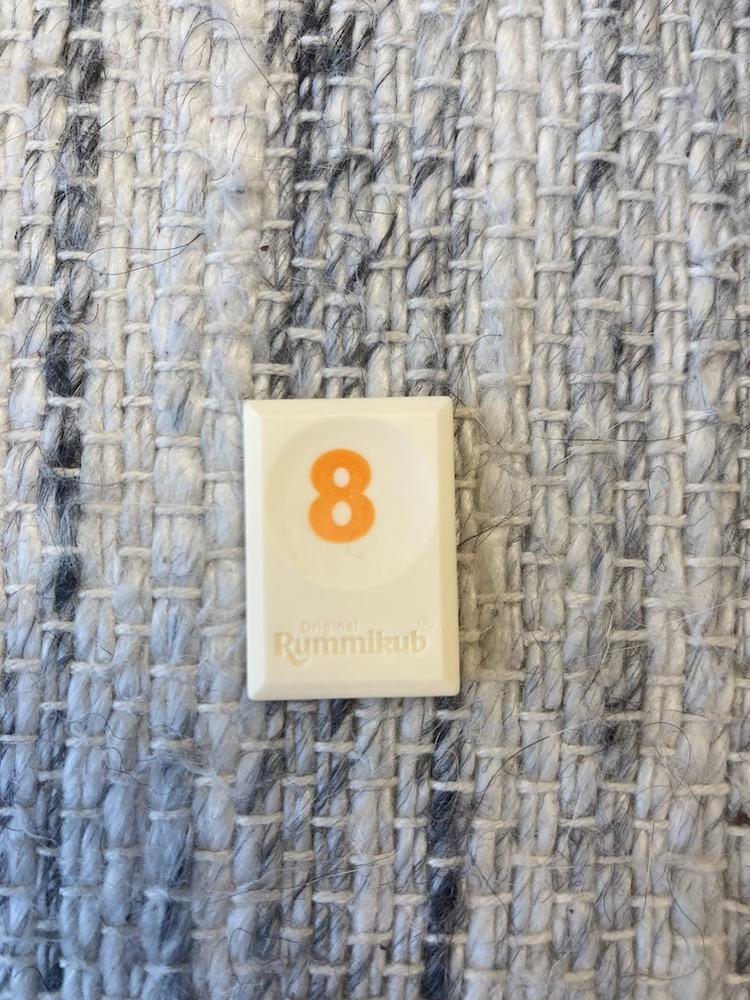orange_8: (244, 396, 459, 701)
